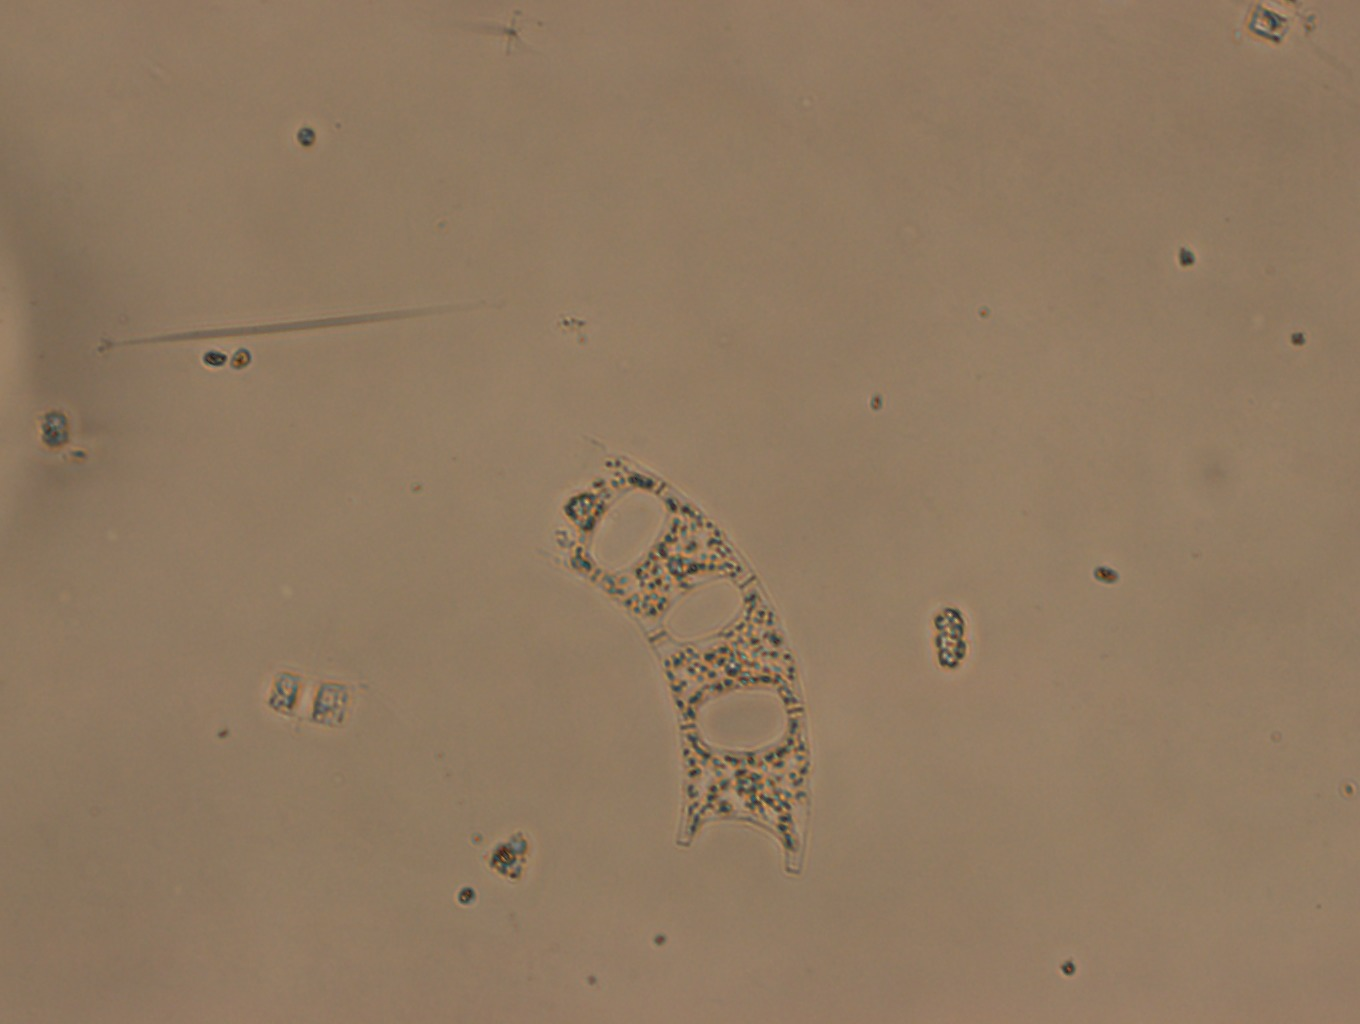eucampia: (535, 433, 810, 874)
skeletonema: (258, 664, 369, 731)
